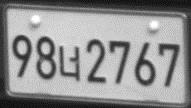2: (85, 38, 107, 84)
6: (133, 42, 156, 86)
7: (157, 42, 180, 88), (108, 40, 131, 85)
8: (35, 36, 57, 80)
9: (11, 33, 33, 78)
너: (58, 45, 81, 83)
